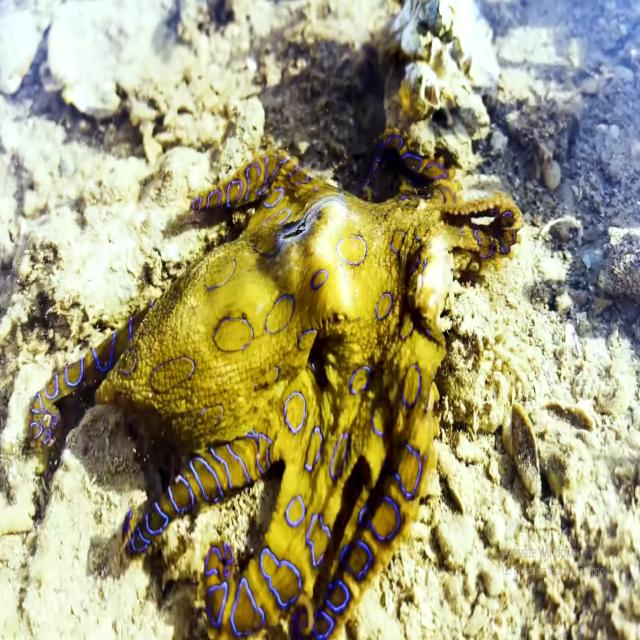blue_ringed_octopus: (29, 127, 524, 639)
